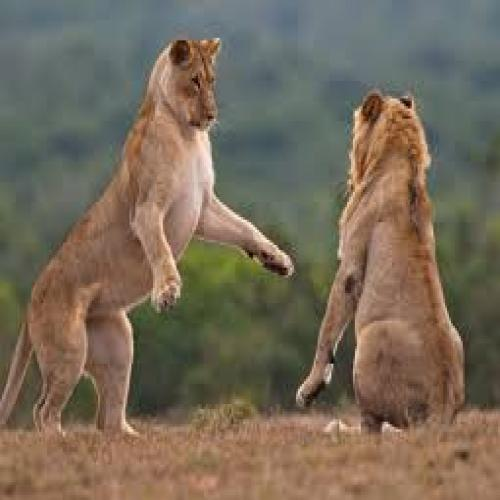lion-endangered: (28, 36, 291, 429), (314, 91, 463, 428)
